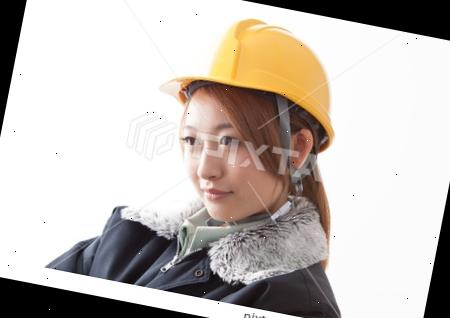helmet: (154, 2, 356, 152)
